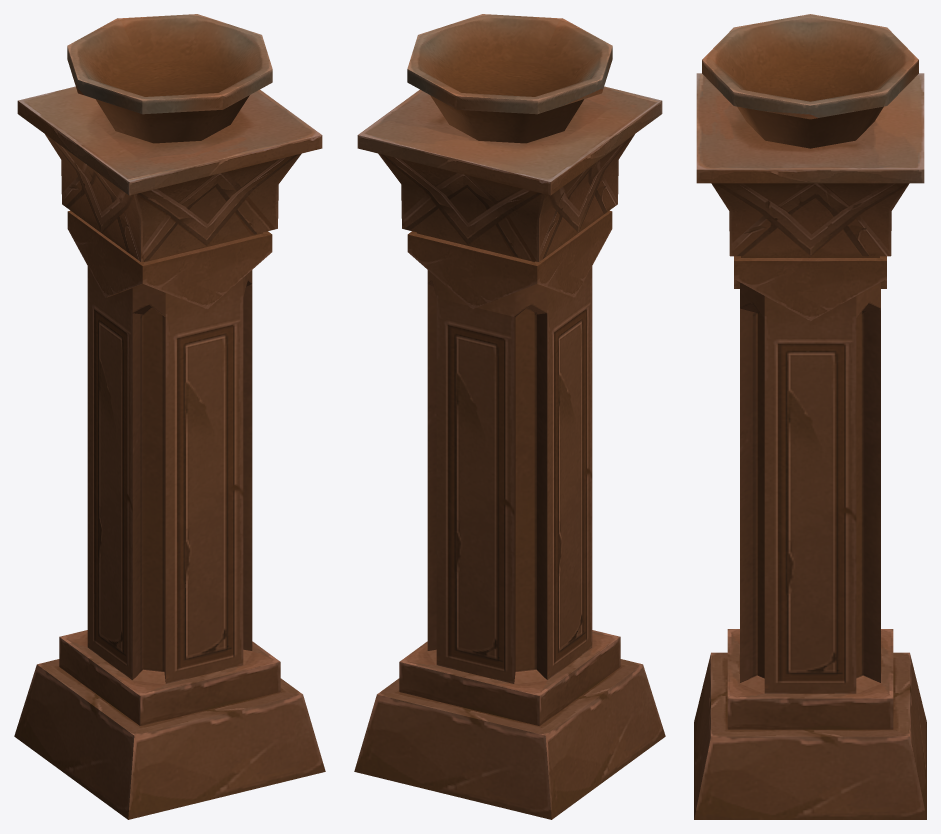
The model's file is guchengqishituan_BOSS_C_01_b1.FBX.
3 views of the same model, side by side, from view 1: azimuth 30°, elevation 25°; view 2: azimuth 150°, elevation 25°; view 3: azimuth 270°, elevation 25° (orthographic). The views are drawn at different scales.
Parts seen in each view (by area): view 1: guchengqishituan_BOSS_C_01_b001; view 2: guchengqishituan_BOSS_C_01_b001; view 3: guchengqishituan_BOSS_C_01_b001.
Boxes of the visible parts, x1=… form: guchengqishituan_BOSS_C_01_b001: x1=14, y1=14, x2=325, y2=819; guchengqishituan_BOSS_C_01_b001: x1=354, y1=14, x2=665, y2=819; guchengqishituan_BOSS_C_01_b001: x1=694, y1=14, x2=926, y2=819.
Size of the model in its own units: 1.54 by 5.19 by 1.54.
